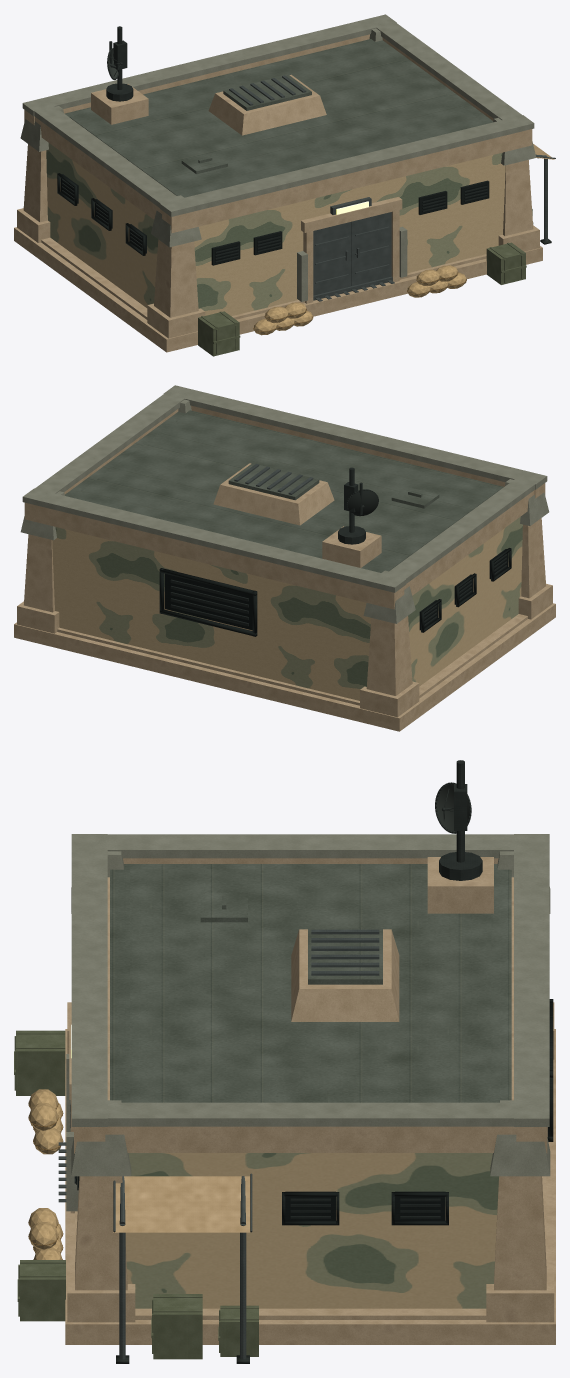
Rendered from barracks-1.glb.
The picture shows the model from 3 angles, top to bottom: view 1: azimuth 30°, elevation 25°; view 2: azimuth 150°, elevation 25°; view 3: azimuth 270°, elevation 25°; orthographic projection. The views are drawn at different scales.
Parts seen in each view (by area): view 1: roof_top_center, front_wall_1, front_wall_-1, shell_side_1, parapet_front, parapet_cap_front, foundation_concrete, parapet_cap_rear, parapet_cap_right, parapet_cap_left, corner_buttress_5.38_3.63, rooftop_air_unit (+25 smaller); view 2: shell_rear, roof_top_center, shell_side_1, foundation_concrete, parapet_rear, parapet_cap_rear, parapet_cap_front, parapet_cap_right, parapet_cap_left, corner_buttress_5.38_-3.63, rooftop_air_unit, foundation_footprint (+19 smaller); view 3: roof_top_center, shell_side_-1, foundation_concrete, roof_top_inset, parapet_cap_front, parapet_cap_rear, parapet_left, parapet_cap_left, parapet_cap_right, canvas_awning, rooftop_air_unit, corner_buttress_-5.38_-3.63 (+20 smaller).
Boxes of the visible parts, box(x1,y1,x2,y2) form: roof_top_center: box(69, 42, 485, 197); front_wall_1: box(194, 200, 305, 316); front_wall_-1: box(394, 152, 505, 273); shell_side_1: box(46, 143, 158, 307); parapet_front: box(162, 129, 532, 233); parapet_cap_front: box(160, 115, 534, 216); foundation_concrete: box(14, 227, 542, 352); parapet_cap_rear: box(22, 14, 396, 116); parapet_cap_right: box(34, 102, 184, 207); parapet_cap_left: box(372, 19, 527, 120); corner_buttress_5.38_3.63: box(154, 239, 198, 317); rooftop_air_unit: box(208, 74, 326, 135); shell_rear: box(52, 527, 371, 700); roof_top_center: box(72, 414, 498, 572); shell_side_1: box(408, 517, 522, 686); foundation_concrete: box(14, 603, 555, 731); parapet_rear: box(24, 502, 404, 609); parapet_cap_rear: box(22, 488, 406, 592); parapet_cap_front: box(163, 385, 547, 489); parapet_cap_right: box(380, 479, 535, 583); parapet_cap_left: box(32, 390, 188, 493); corner_buttress_5.38_-3.63: box(366, 616, 412, 695); rooftop_air_unit: box(213, 463, 334, 525); foundation_footprint: box(57, 614, 527, 705); roof_top_center: box(130, 869, 491, 1102); shell_side_-1: box(125, 1153, 498, 1308); foundation_concrete: box(65, 1029, 555, 1344); roof_top_inset: box(110, 864, 511, 1102); parapet_cap_front: box(71, 834, 107, 1126); parapet_cap_rear: box(514, 834, 549, 1126); parapet_left: box(105, 1126, 516, 1152); parapet_cap_left: box(107, 1102, 513, 1126); parapet_cap_right: box(91, 834, 529, 858); canvas_awning: box(113, 1176, 249, 1232); rooftop_air_unit: box(291, 929, 399, 1021); corner_buttress_-5.38_-3.63: box(494, 1176, 546, 1290).
Bounding box in the file's own units: 13.01 × 6.66 × 9.39.
Materials: 18 (17 with a texture image).
